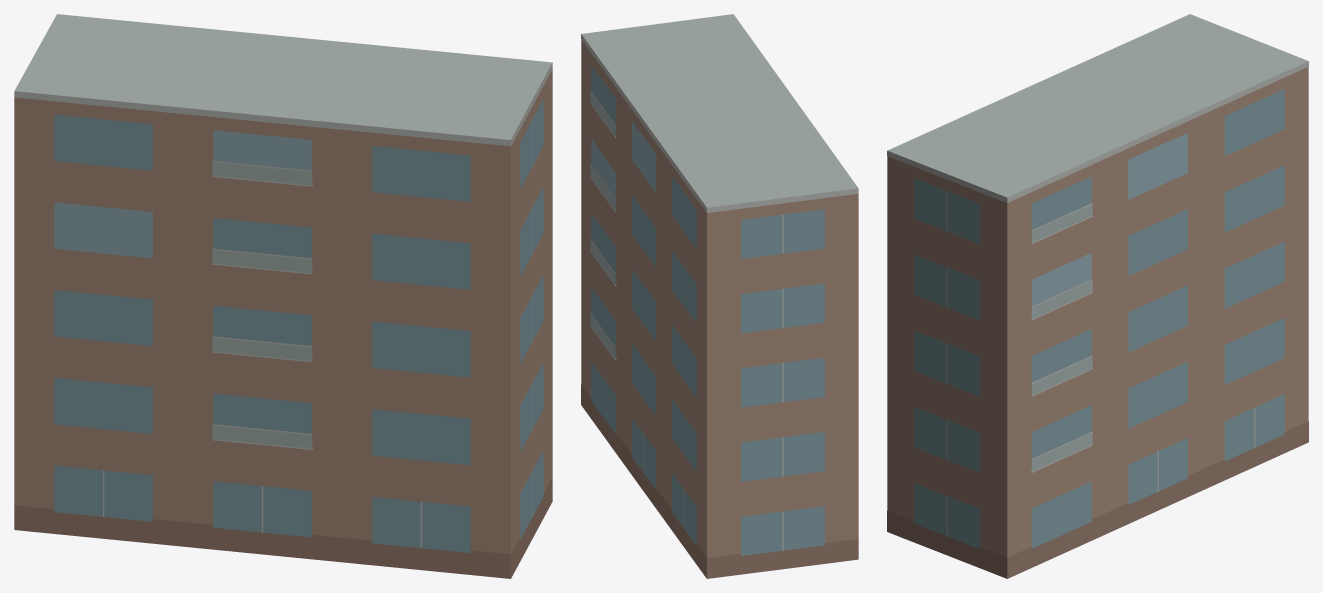
Rendered from survey-upis-32927069.glb.
3 renders of one model, left to right at view 1: azimuth 30°, elevation 25°; view 2: azimuth 150°, elevation 25°; view 3: azimuth 270°, elevation 25°, orthographic. The views are drawn at different scales.
Parts seen in each view (by area): view 1: survey-upis-32927069.tmp; view 2: survey-upis-32927069.tmp; view 3: survey-upis-32927069.tmp.
Part boxes in pixels (x1,y1,x2,y2): survey-upis-32927069.tmp: (14, 14, 552, 578); survey-upis-32927069.tmp: (581, 14, 858, 578); survey-upis-32927069.tmp: (887, 14, 1308, 578).
Bounding box in the file's own units: 17.47 × 16.9 × 16.94.
